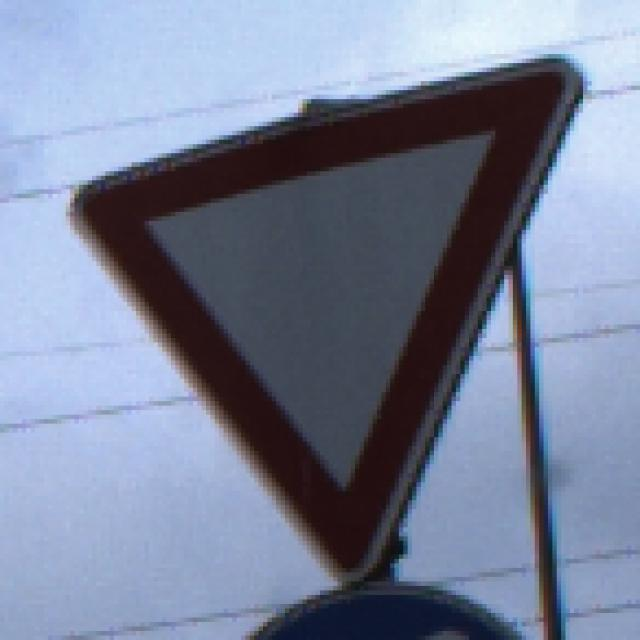Give Way: (58, 55, 588, 587)
